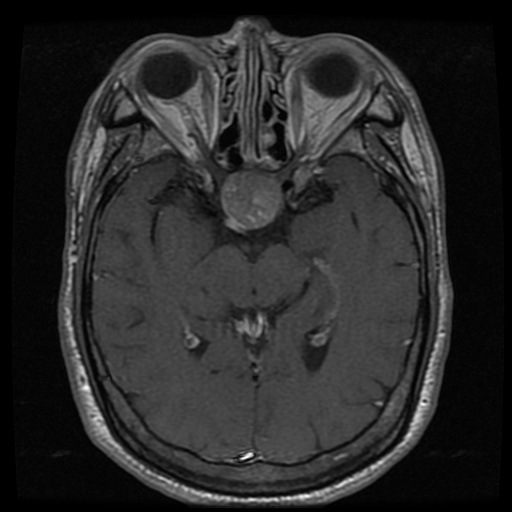pituitary: (222, 170, 283, 227)
